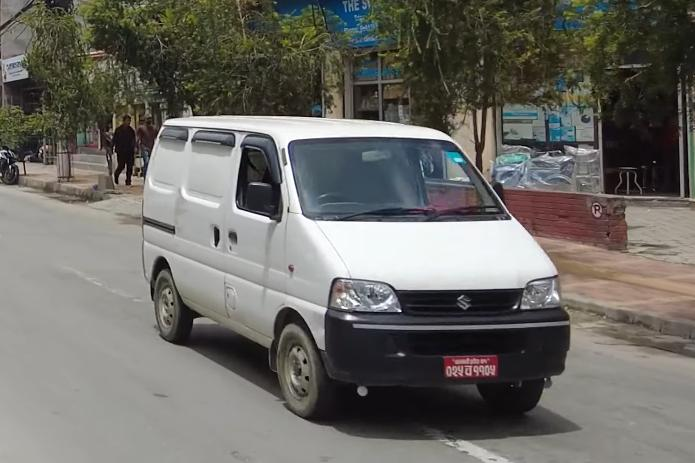van: (140, 103, 597, 419)
